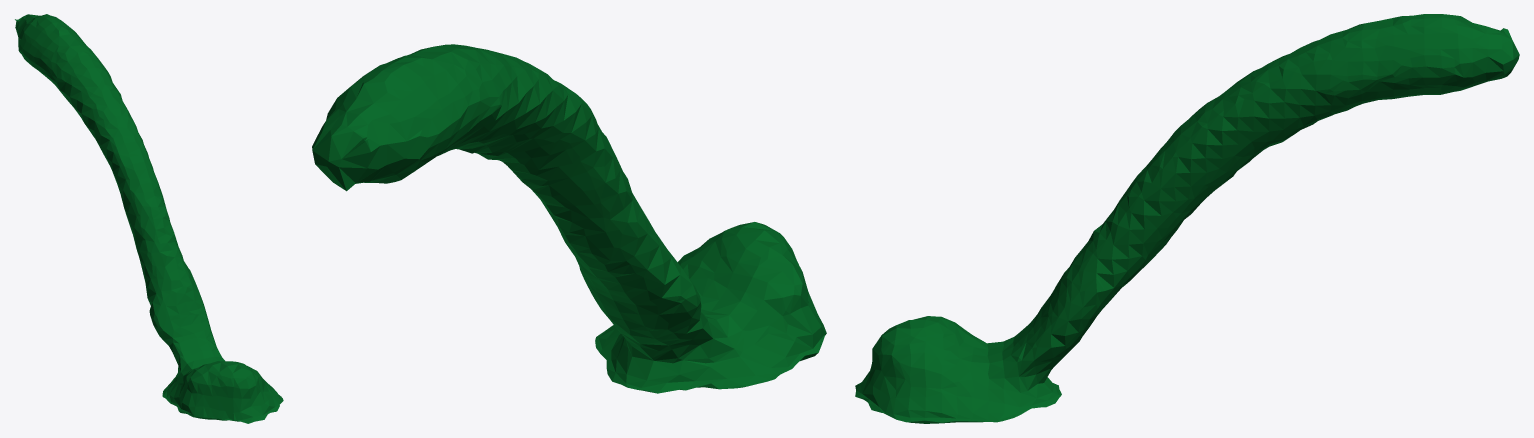
File: fluid_4.fbx
3 views of the same model, side by side, from view 1: azimuth 30°, elevation 25°; view 2: azimuth 150°, elevation 25°; view 3: azimuth 270°, elevation 25° (orthographic). The views are drawn at different scales.
Parts seen in each view (by area): view 1: Cube; view 2: Cube; view 3: Cube.
Boxes of the visible parts, x1=… form: Cube: x1=15, y1=14, x2=283, y2=423; Cube: x1=312, y1=44, x2=826, y2=393; Cube: x1=855, y1=14, x2=1519, y2=423.
Bounding box in the file's own units: 64.93 × 177 × 279.
